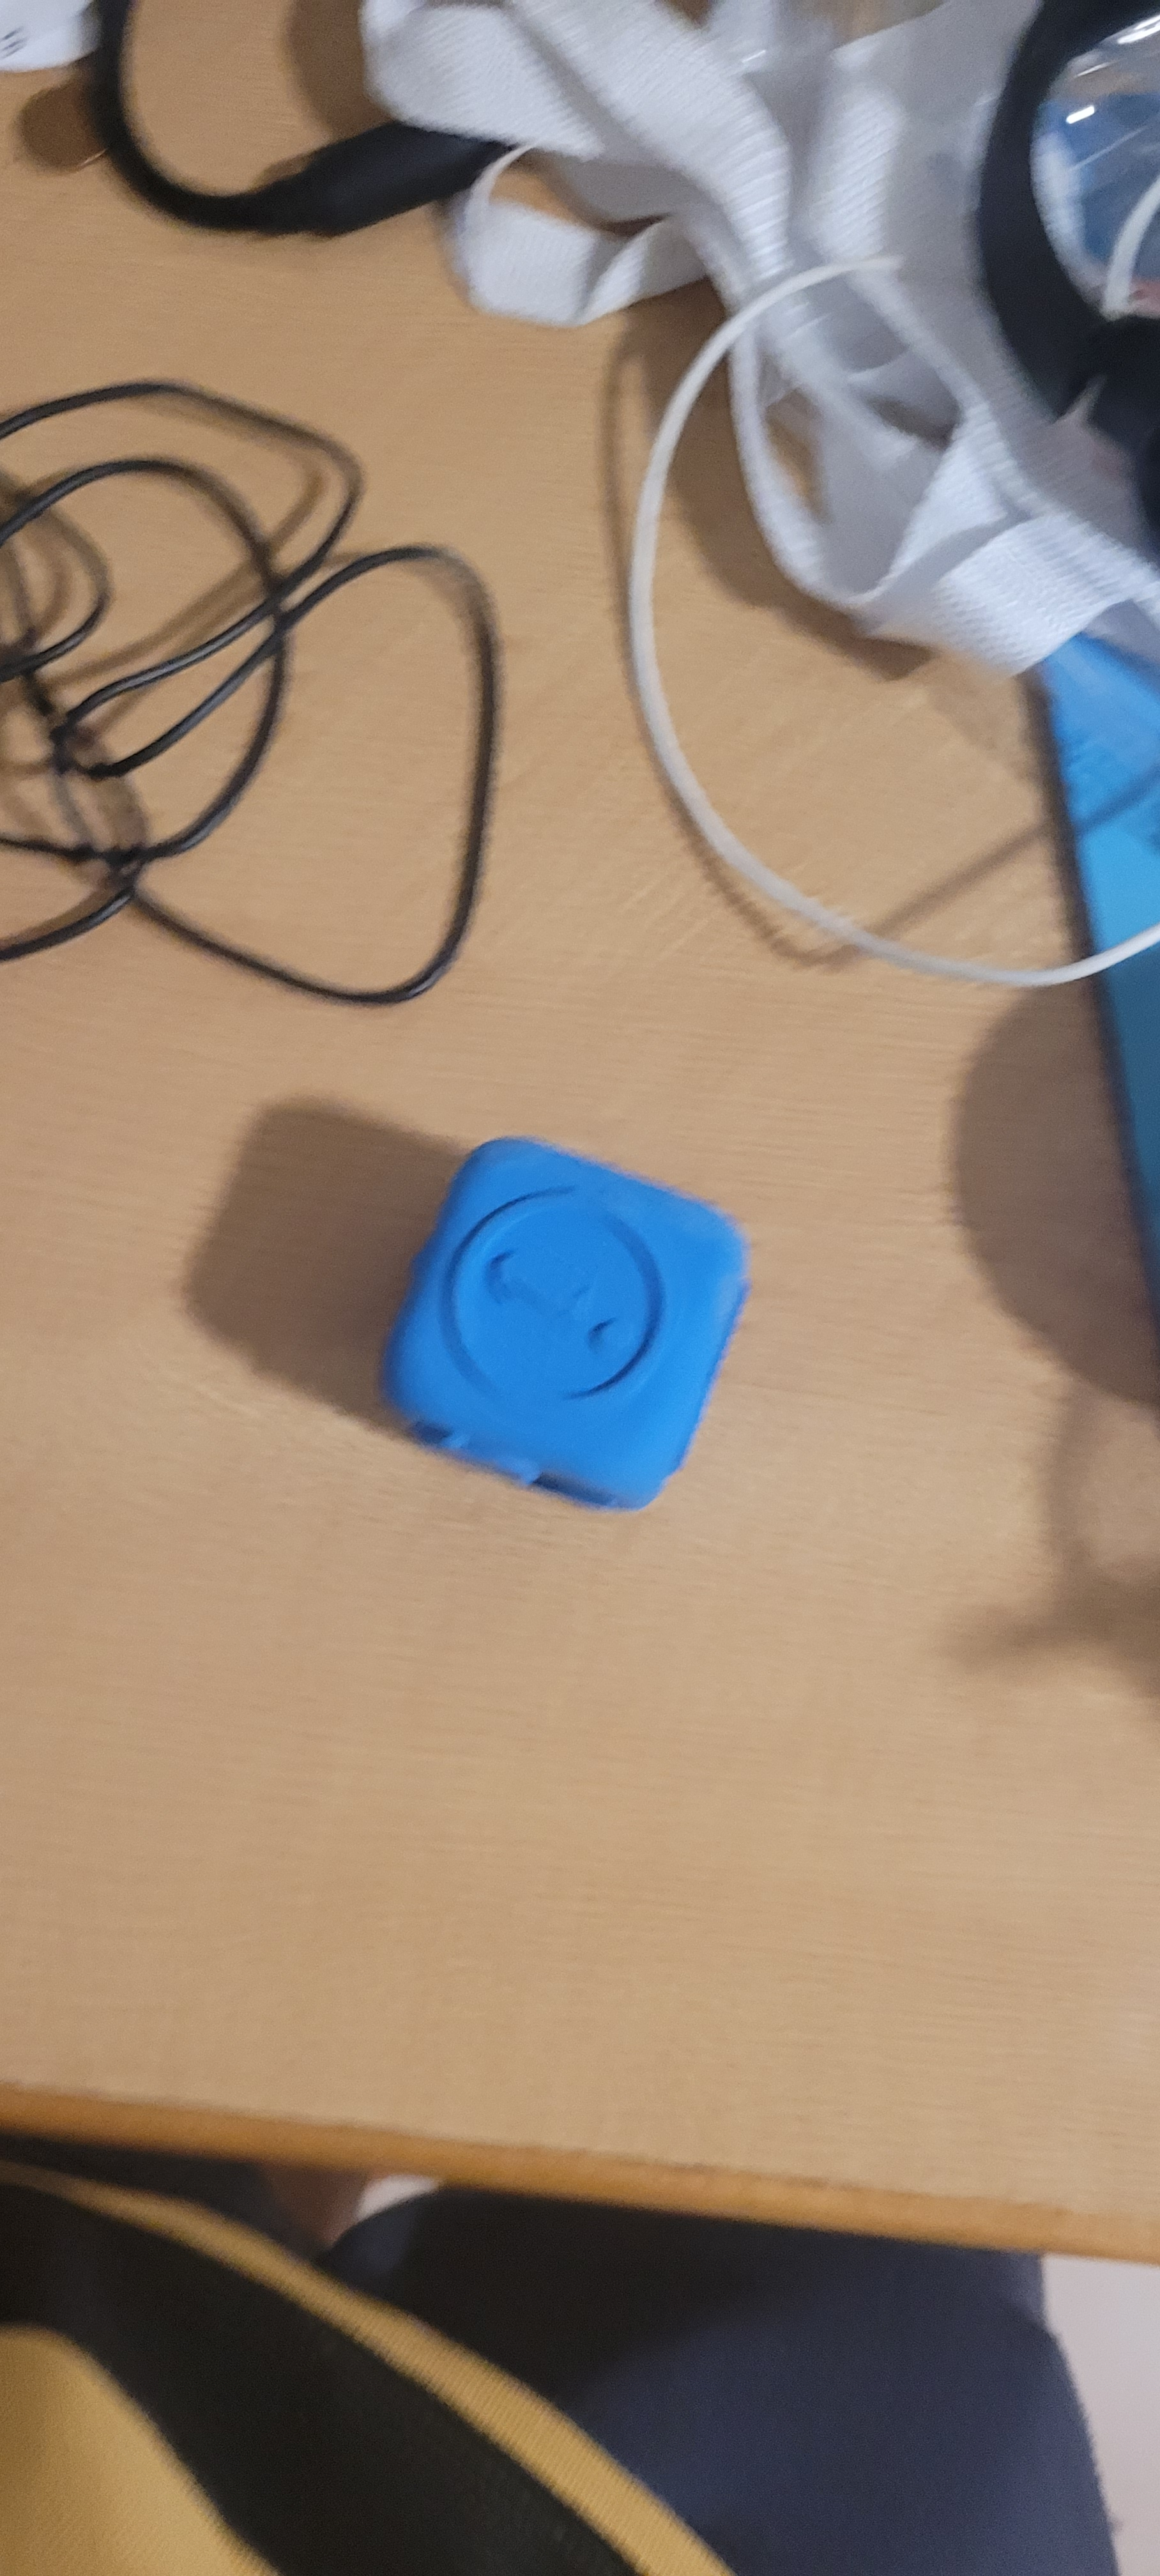Info: (373, 1176, 711, 1410)
